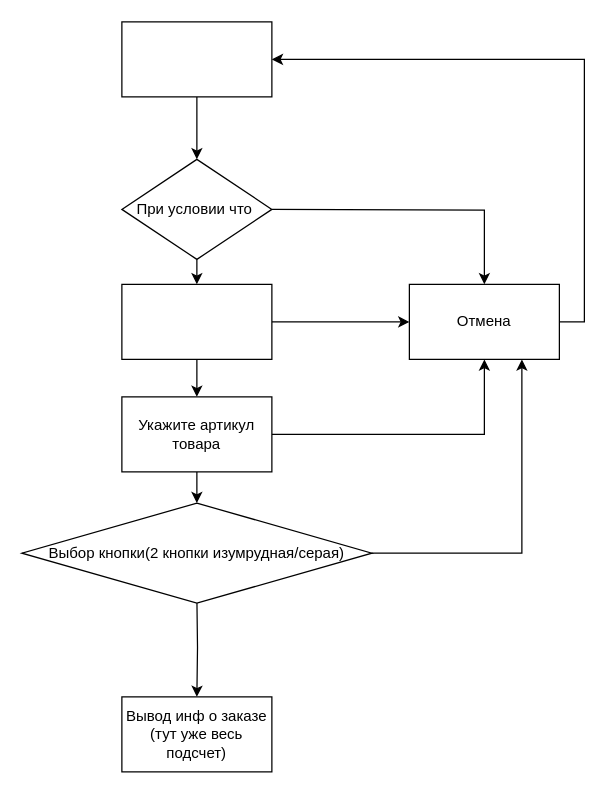
Image size: 616x794. Some labels were removed from this diagram. Here are the shapes that lost their labels. From the top down, the box of each, then its label:
(121, 21, 272, 97): Выбор категории
(121, 283, 272, 359): Укажите цену в ¥ за 1 единицу:
